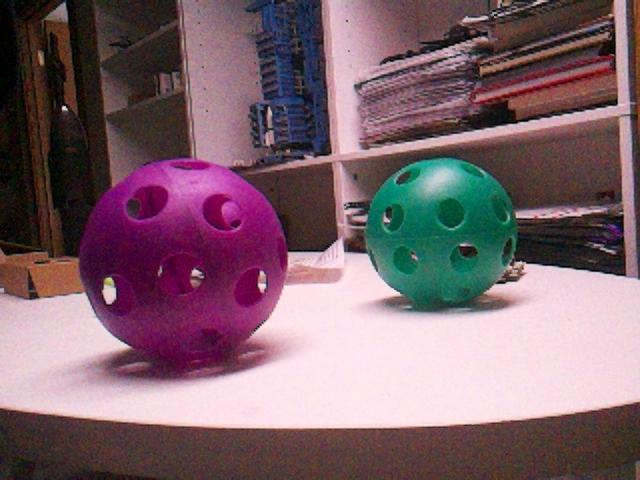Green: (363, 157, 517, 308)
Purple: (75, 160, 284, 368)
